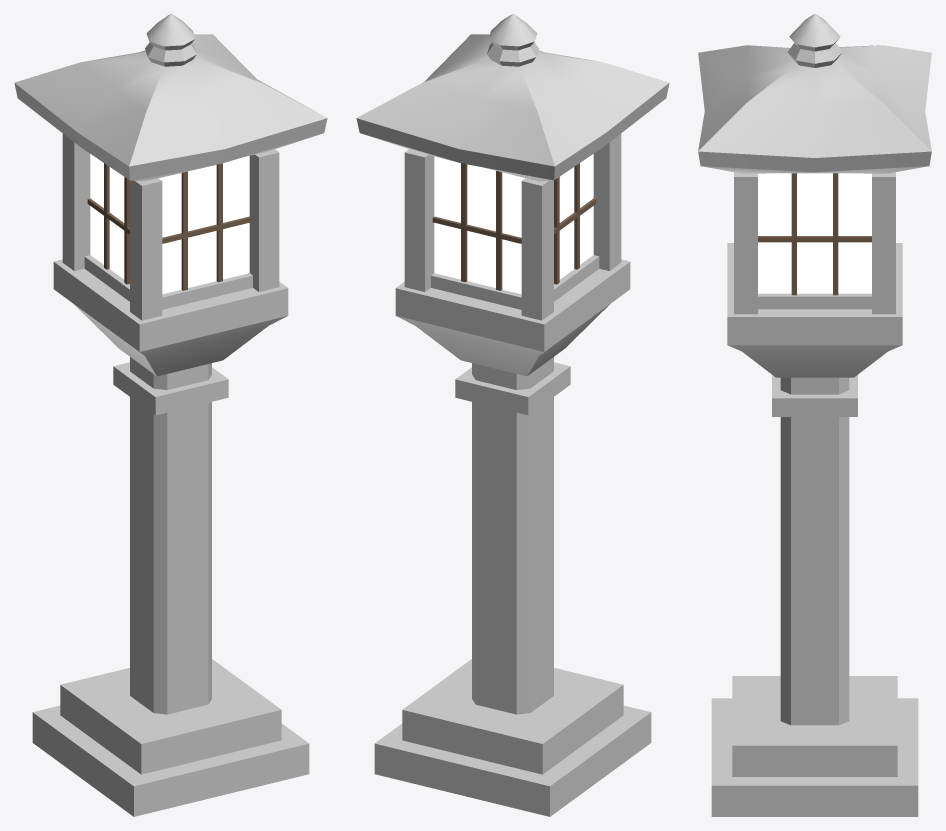
The model's file is street_lantern.glb.
The picture shows the model from 3 angles, left to right: view 1: azimuth 30°, elevation 25°; view 2: azimuth 150°, elevation 25°; view 3: azimuth 270°, elevation 25°; orthographic projection.
Visible parts, largest first — view 1: street_lantern_body; view 2: street_lantern_body; view 3: street_lantern_body.
Boxes of the visible parts, left/top/right/bottom form: street_lantern_body: left=14, top=14, right=327, bottom=816; street_lantern_body: left=356, top=14, right=669, bottom=816; street_lantern_body: left=698, top=14, right=931, bottom=816.
Size of what is drawn, in the model's own units: 0.6788 by 2.43 by 0.6788.
